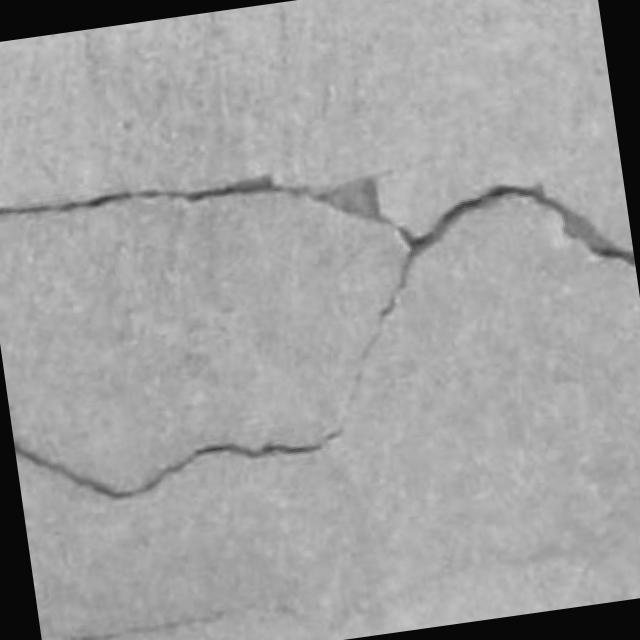crack: (0, 175, 634, 424), (340, 184, 634, 426), (397, 185, 634, 295), (14, 431, 341, 501), (0, 175, 399, 230), (59, 611, 233, 639)
